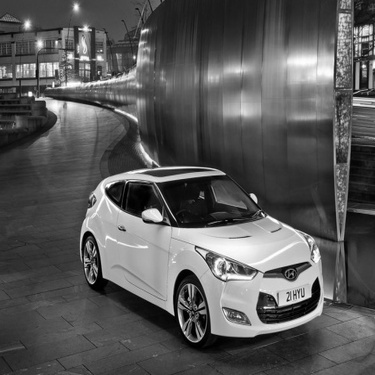car: (73, 151, 334, 336)
